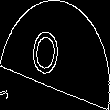O_S: (37, 25, 73, 85)
